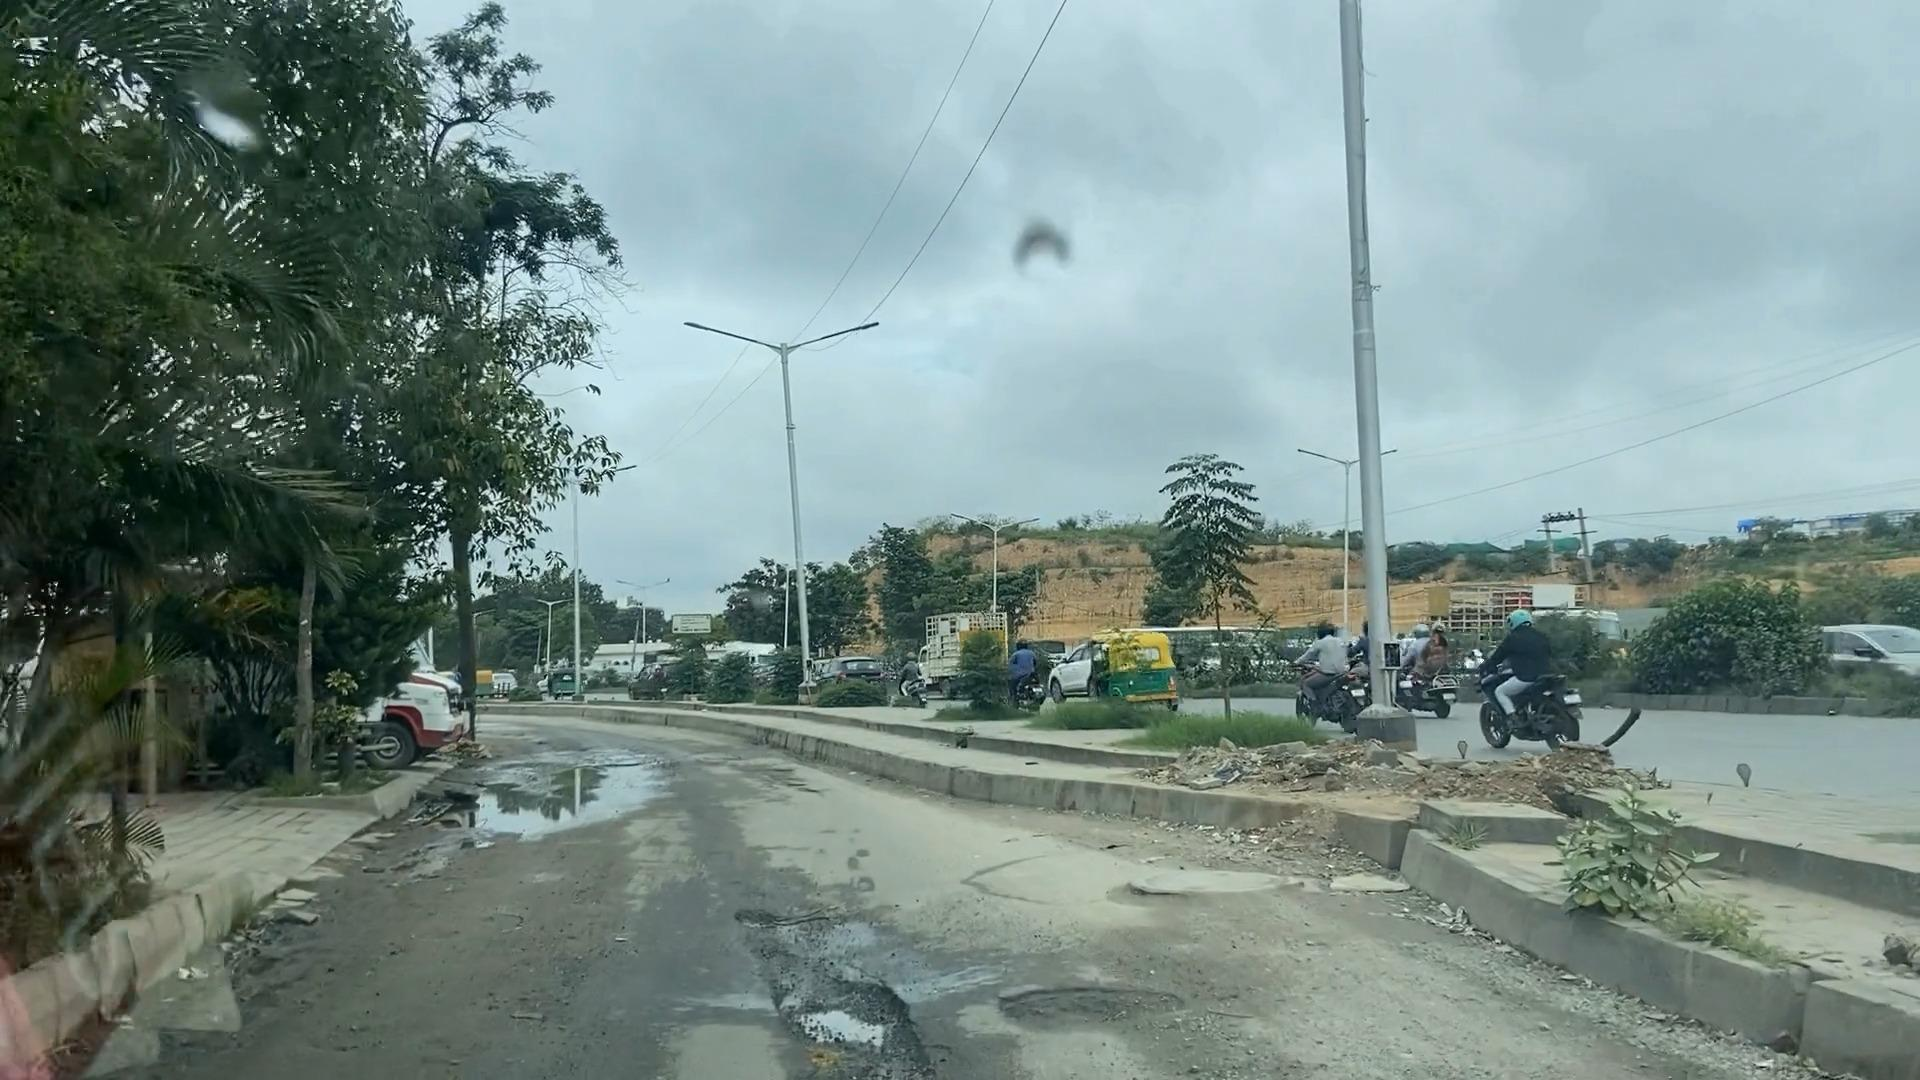RoadDamages: (737, 907, 932, 1080), (980, 971, 1224, 1052), (1120, 857, 1373, 927)
